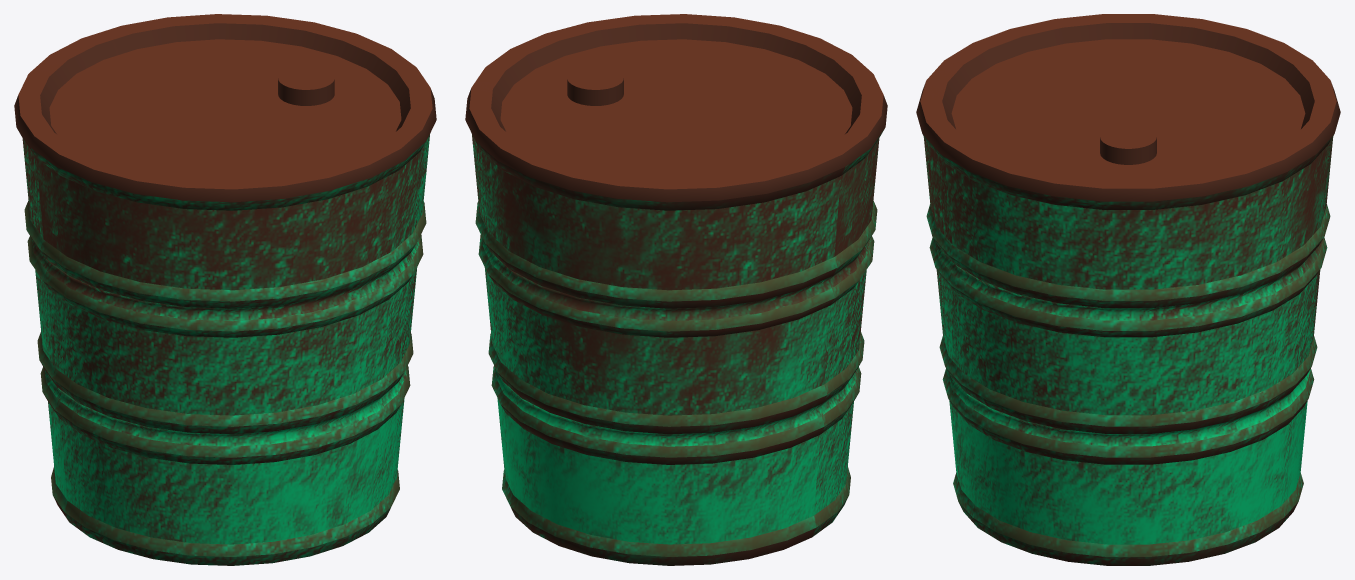
The model's file is 드럼통1.fbx.
3 renders of one model, left to right at view 1: azimuth 30°, elevation 25°; view 2: azimuth 150°, elevation 25°; view 3: azimuth 270°, elevation 25°, orthographic.
Visible parts, largest first — view 1: 드럼통1; view 2: 드럼통1; view 3: 드럼통1.
Part boxes in pixels (left/top/right/bottom): 드럼통1: left=14, top=14, right=436, bottom=565; 드럼통1: left=465, top=14, right=887, bottom=565; 드럼통1: left=916, top=14, right=1340, bottom=565.
Bounding box in the file's own units: 86.82 × 90.3 × 87.46.
Materials: 1 (1 with a texture image).
